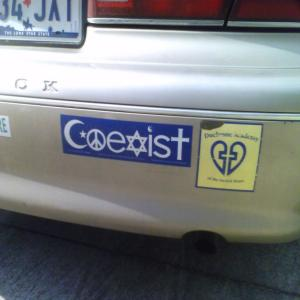Vehicle-registration-plate: (2, 1, 87, 42)
